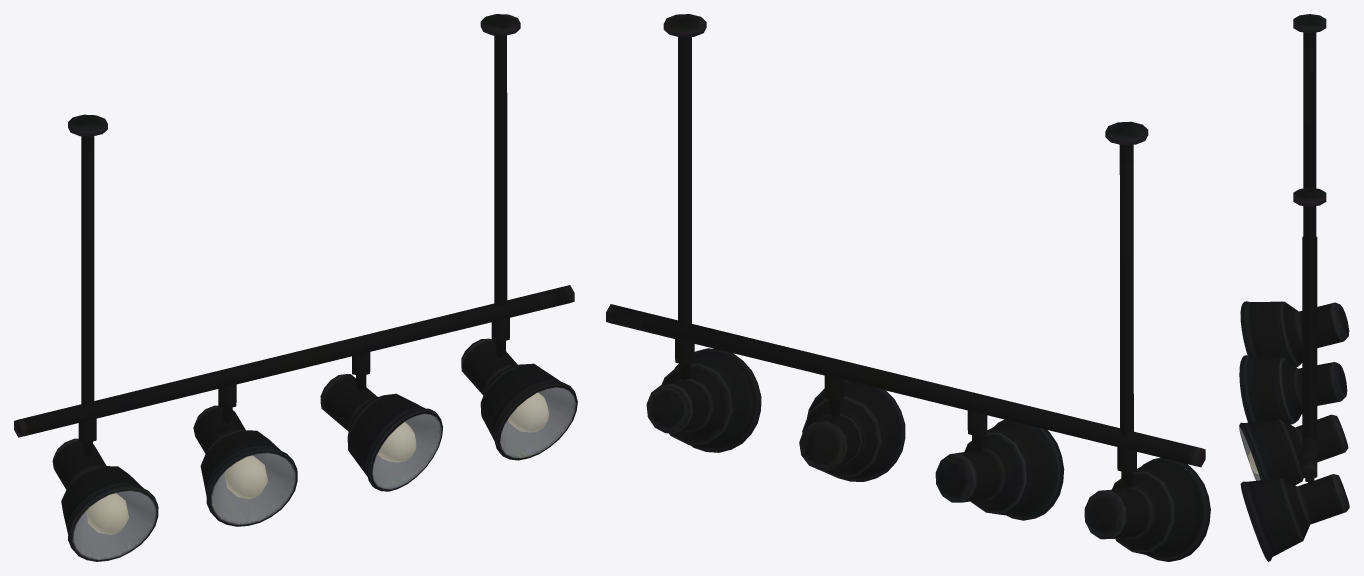
3 views of the same model, side by side, from view 1: azimuth 30°, elevation 25°; view 2: azimuth 150°, elevation 25°; view 3: azimuth 270°, elevation 25° (orthographic). The views are drawn at different scales.
Bounding box in the file's own units: 19.93 × 14.48 × 4.02.
1 material, 1 textured.
